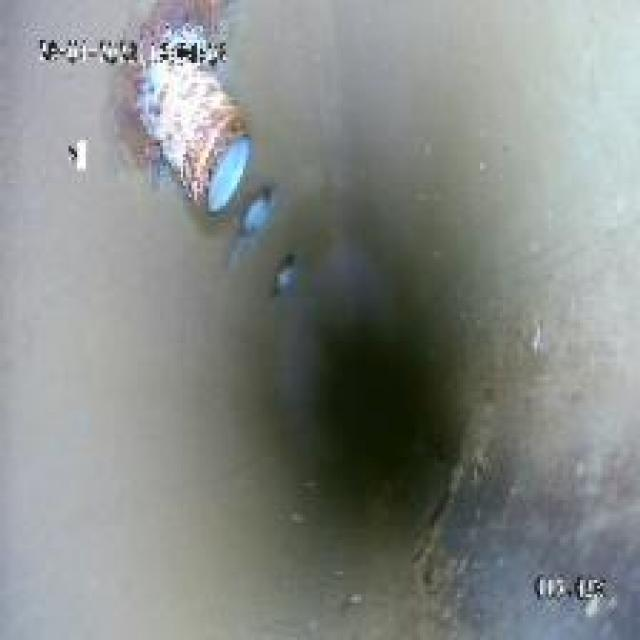ferrule: (114, 20, 246, 206), (266, 252, 308, 288), (240, 194, 274, 234)
